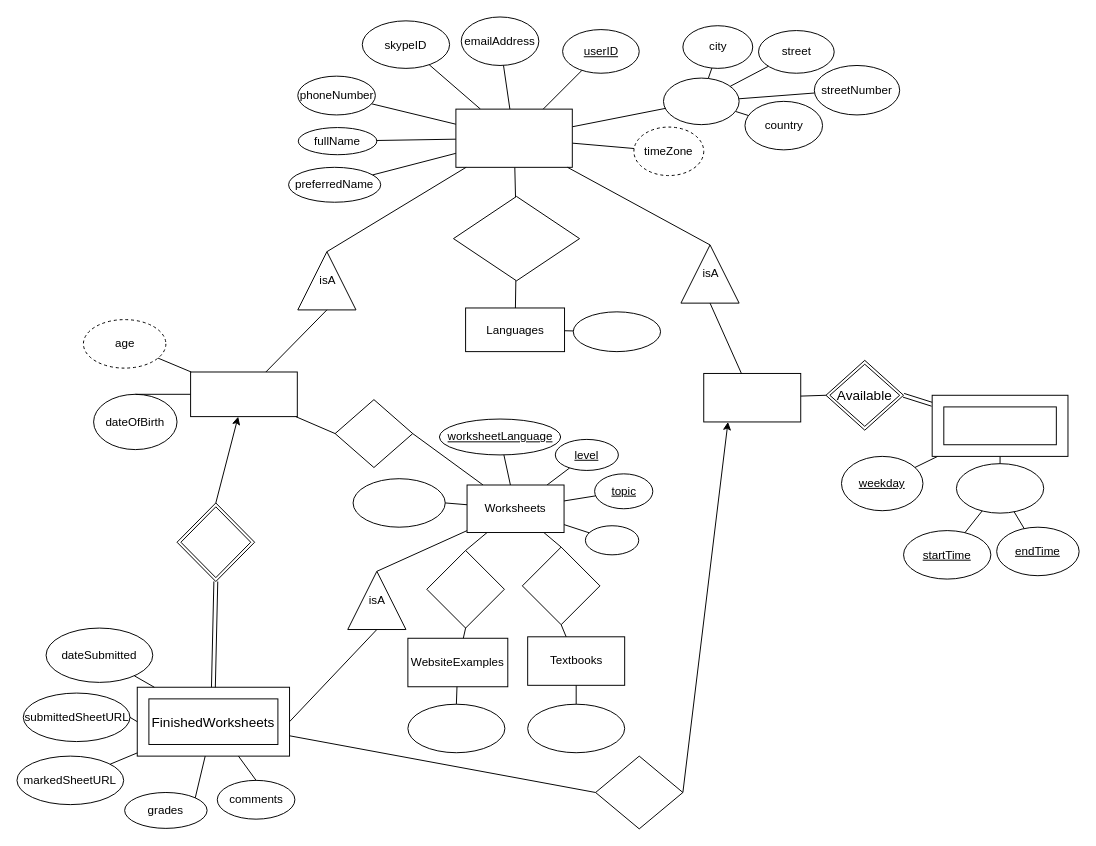
This 1096x846 diagram has some shape labels left out. The shapes that lost their labels are listed below. From the top down, each one's box as (x1, y1, x2, y2) in pixels, then its label:
(663, 77, 739, 125): address
(455, 108, 572, 167): Users
(453, 195, 580, 281): LanguageOfUser
(572, 311, 661, 352): language
(190, 371, 297, 417): Students
(703, 372, 801, 422): Teachers
(334, 399, 413, 468): Studies
(931, 394, 1068, 456): SkypeSchedules
(352, 478, 445, 527): worksheetURL
(955, 463, 1044, 513): time
(176, 502, 255, 582): Submits
(584, 525, 639, 555): version
(426, 550, 504, 628): WebsitesOf
(521, 546, 600, 625): TextbooksOf
(407, 703, 505, 753): websiteURL
(527, 703, 625, 753): textbookISBN
(595, 755, 683, 829): Marks
